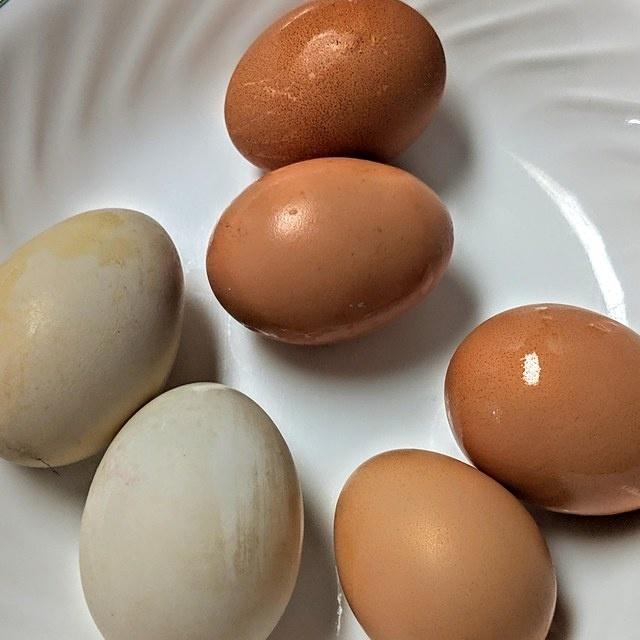egg: (78, 380, 304, 640), (0, 206, 184, 469), (204, 155, 454, 346), (332, 447, 557, 640), (443, 301, 640, 516), (223, 0, 447, 169)
